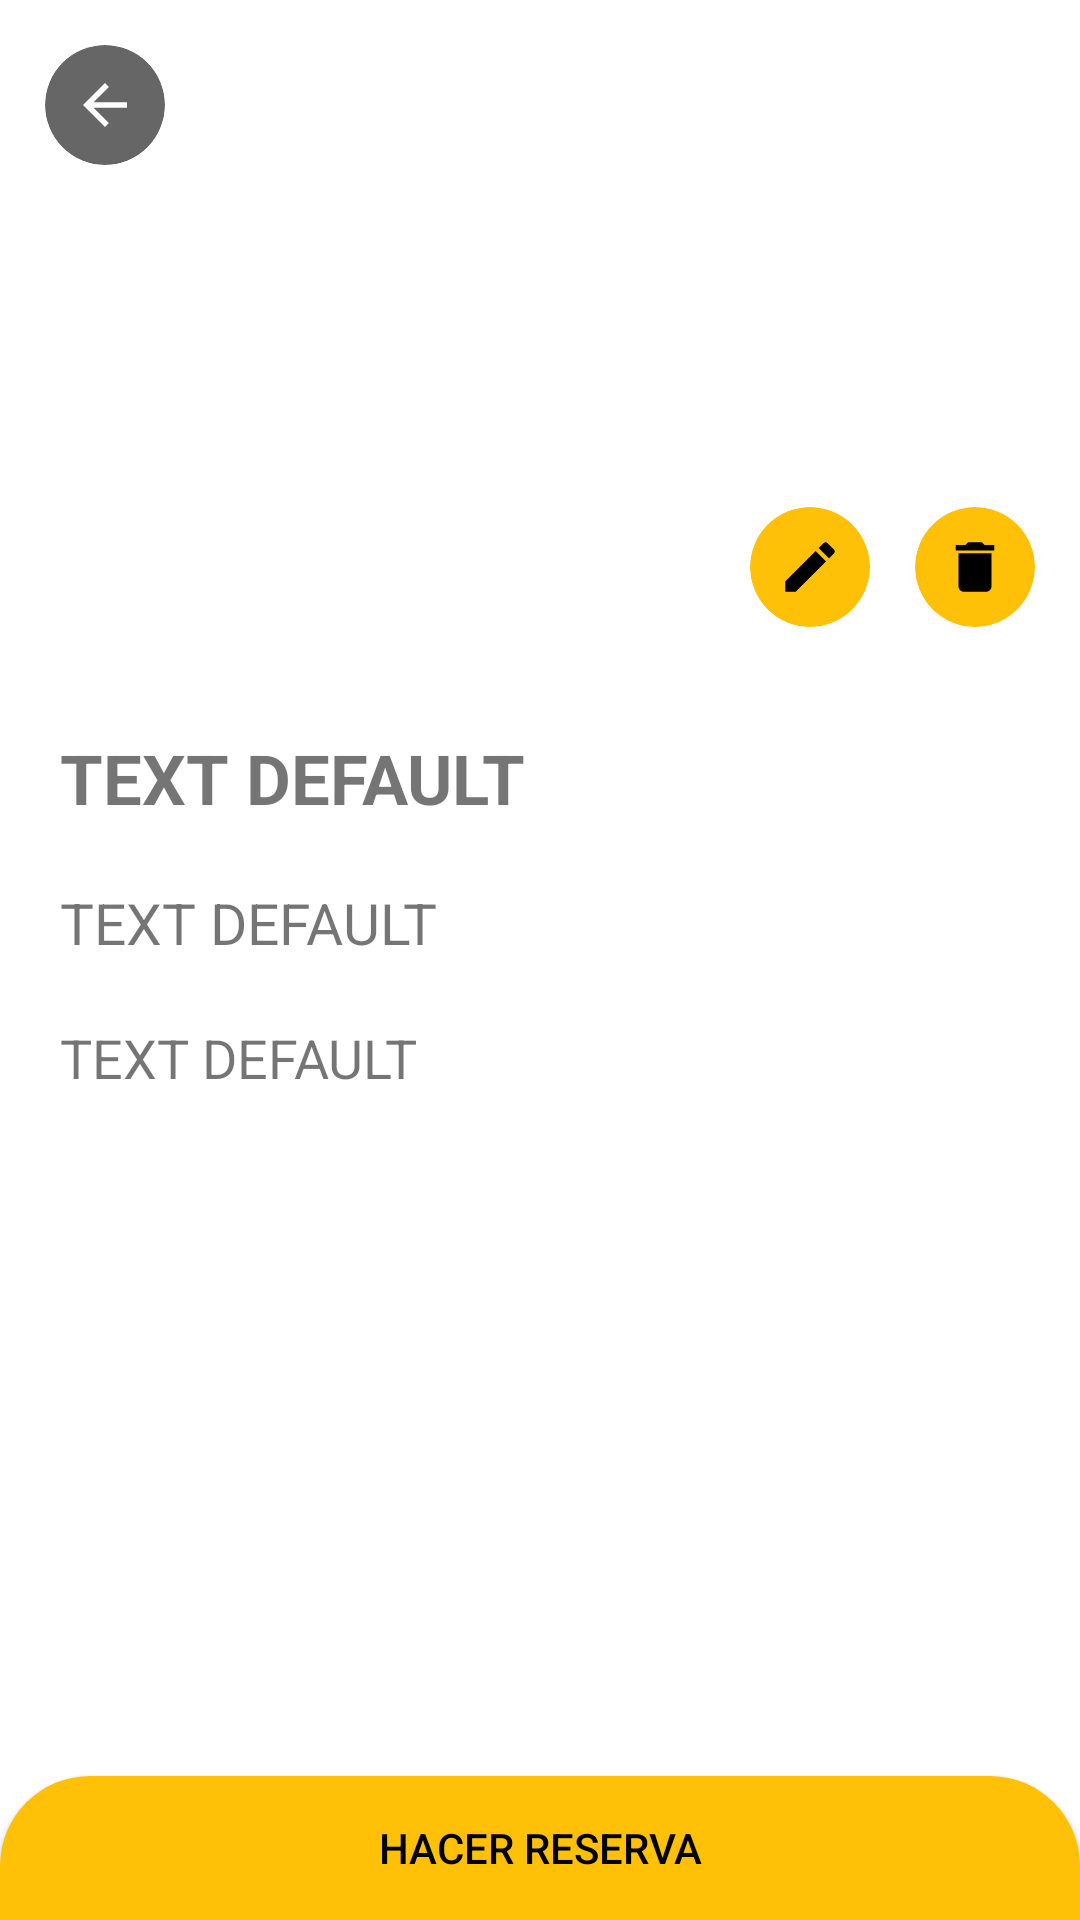

Icons on this 1080*1920 Android screen, each with the point to tap as (x=x, y=y):
arrow back: (x=105, y=105)
delete: (x=975, y=567)
edit: (x=810, y=567)
